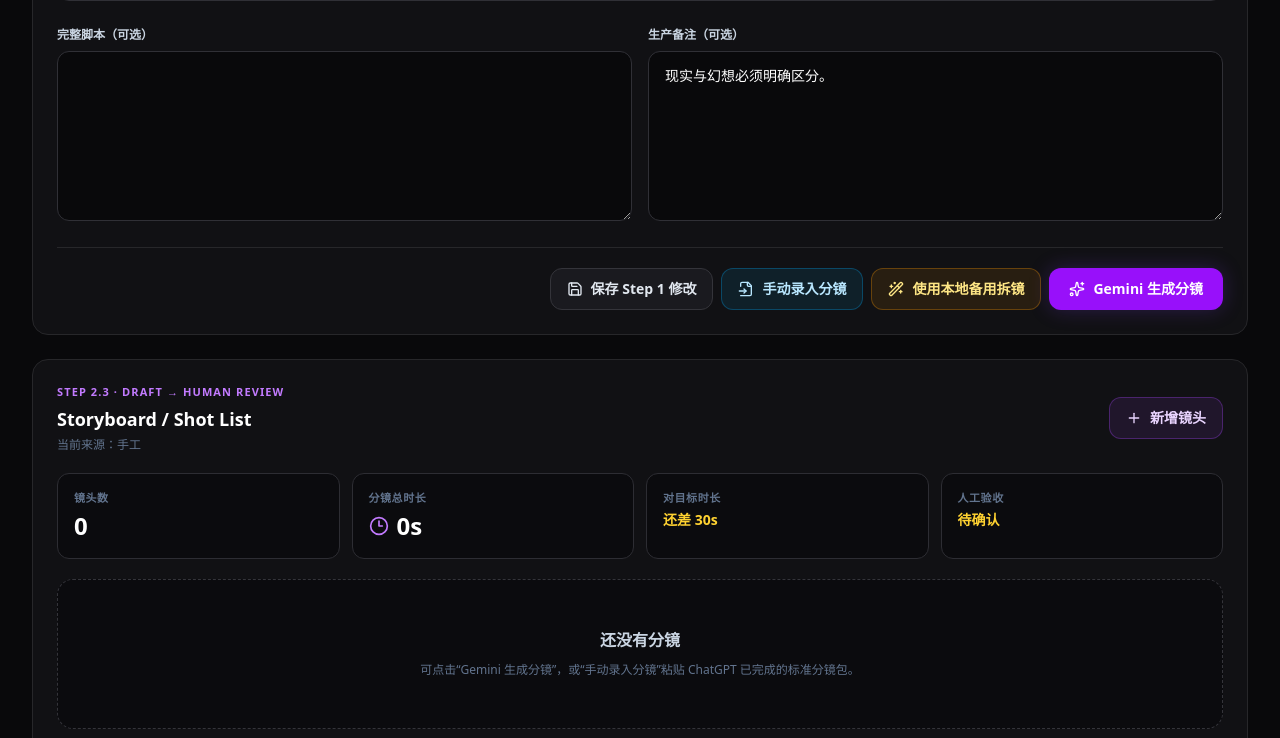
Test: GeminiStoryboardDirectorPage › keeps human approval mandatory and invalidates PASS after a shot edit
This screenshot has width=1280, height=738.
(page scrolled)
Click the button "Gemini 生成分镜".
click(1136, 289)  # box [1050, 268, 1223, 310]
(page scrolled)
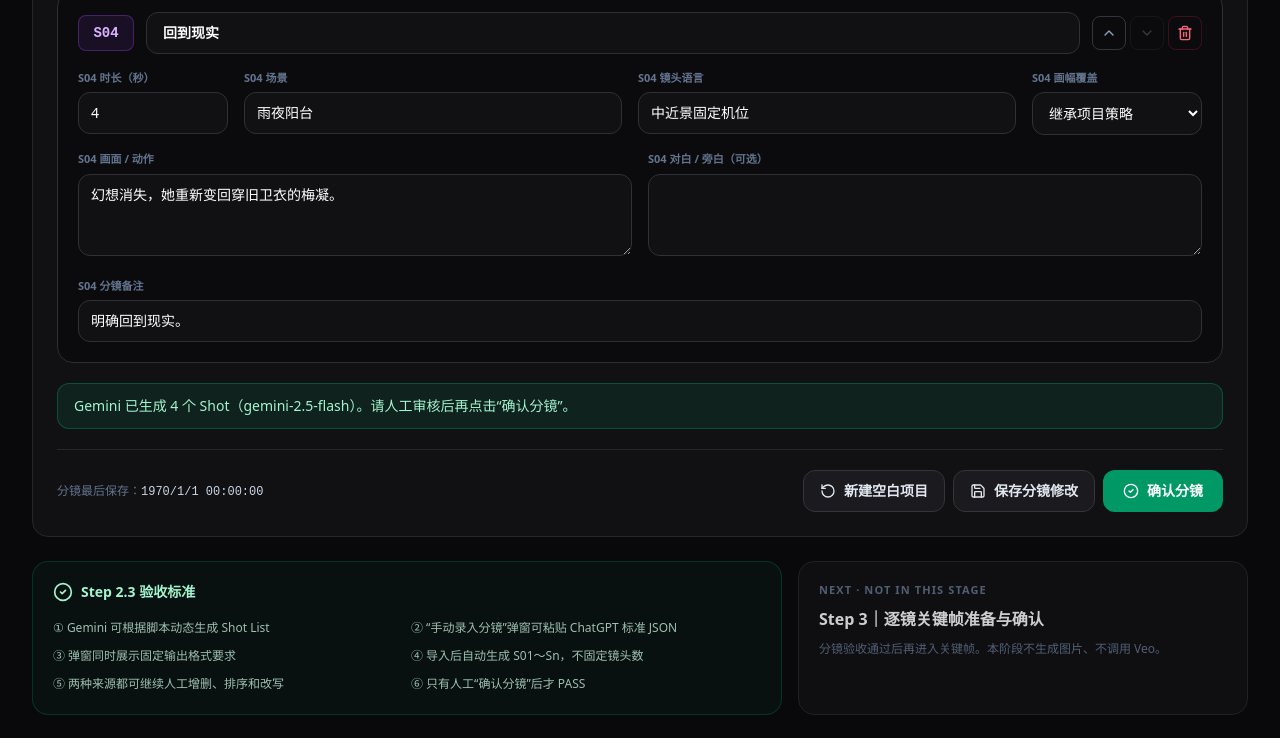
Now the text "Gemini 已生成 4 个 Shot（gemini-2.5-flash）。请人工审核后再点击“确认分镜”。" is shown, box [57, 383, 1223, 429]
Click the button "确认分镜".
click(1163, 491)  # box [1103, 470, 1223, 512]
(page scrolled)
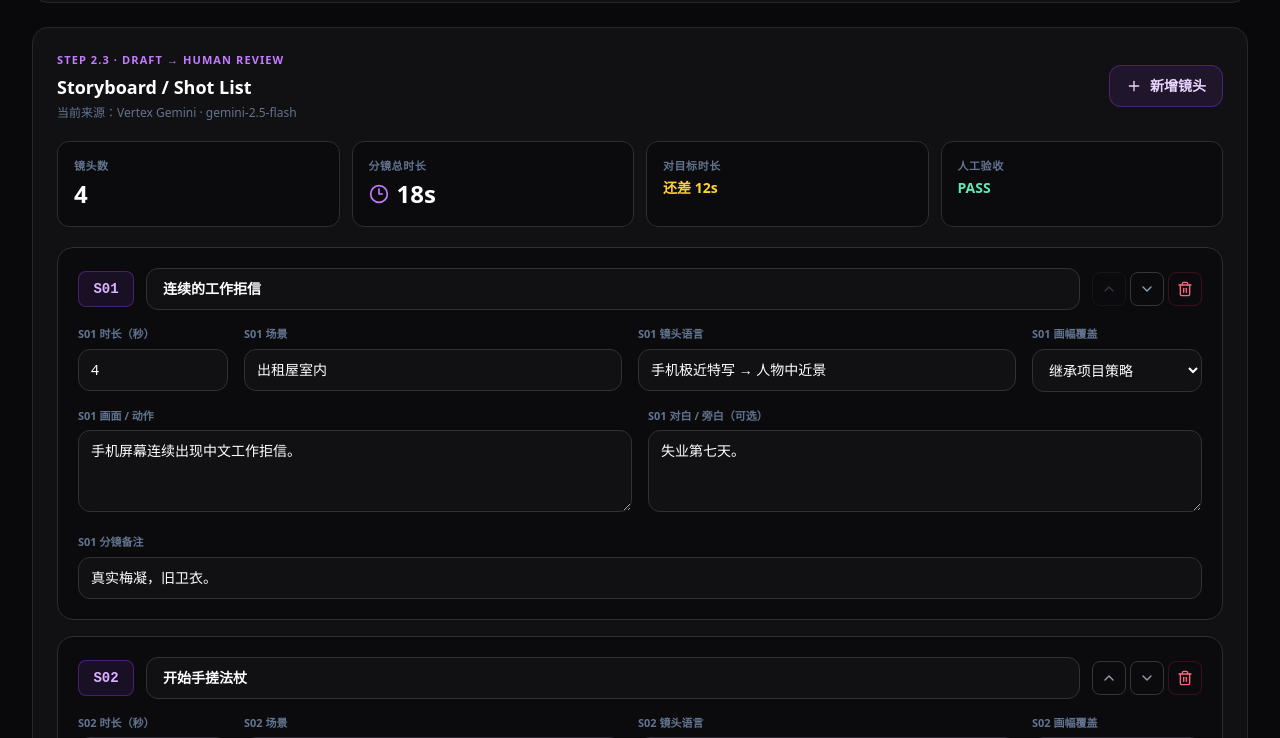
Now the text with test id "storyboard-approval-status" reads "PASS", box [958, 178, 991, 197]
Replace the text in the 1st field named "S01 标题" with "人工修改后的标题" at [613, 289], box [146, 268, 1080, 310]
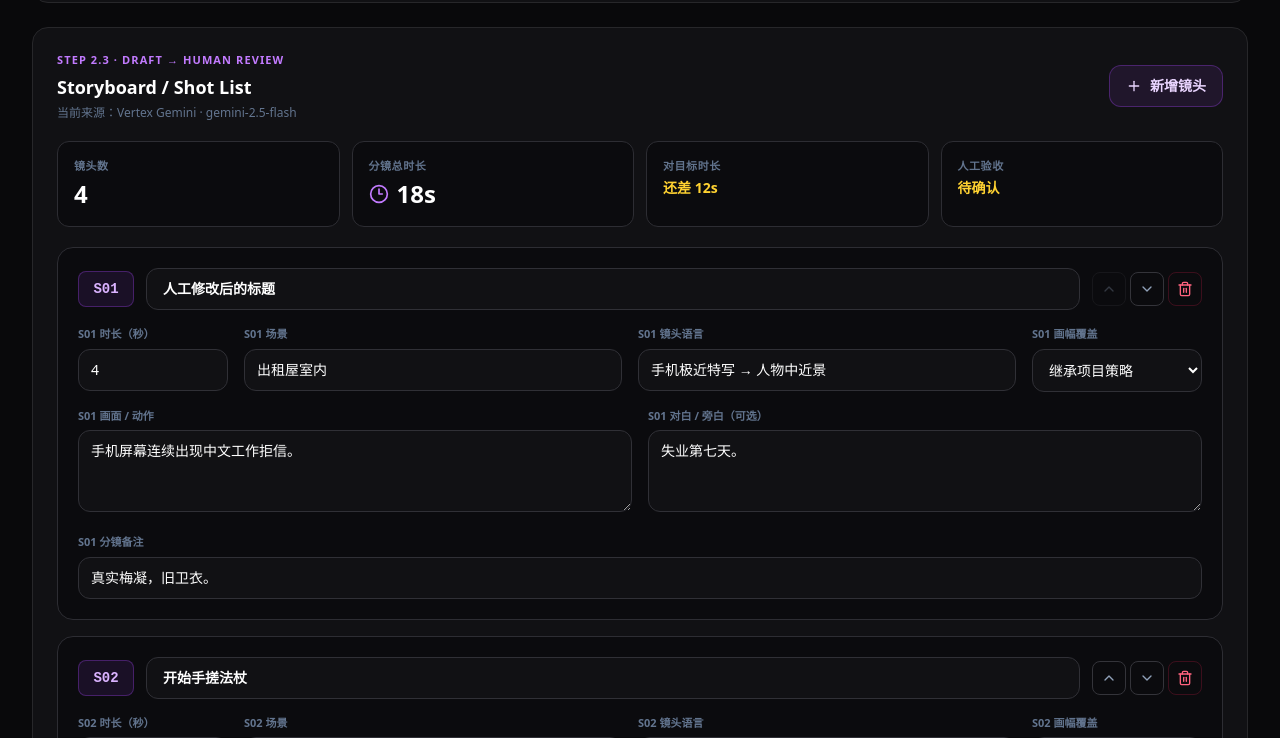
Now the text with test id "storyboard-approval-status" reads "待确认", box [958, 178, 1000, 197]
